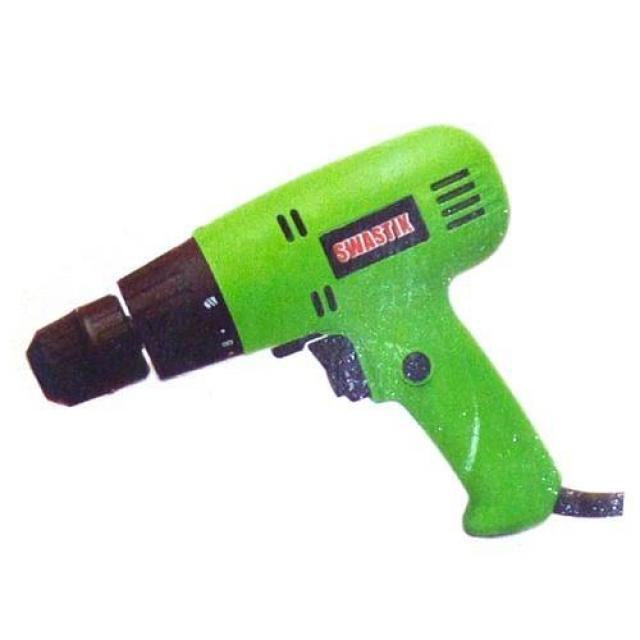drill: (24, 123, 562, 540)
